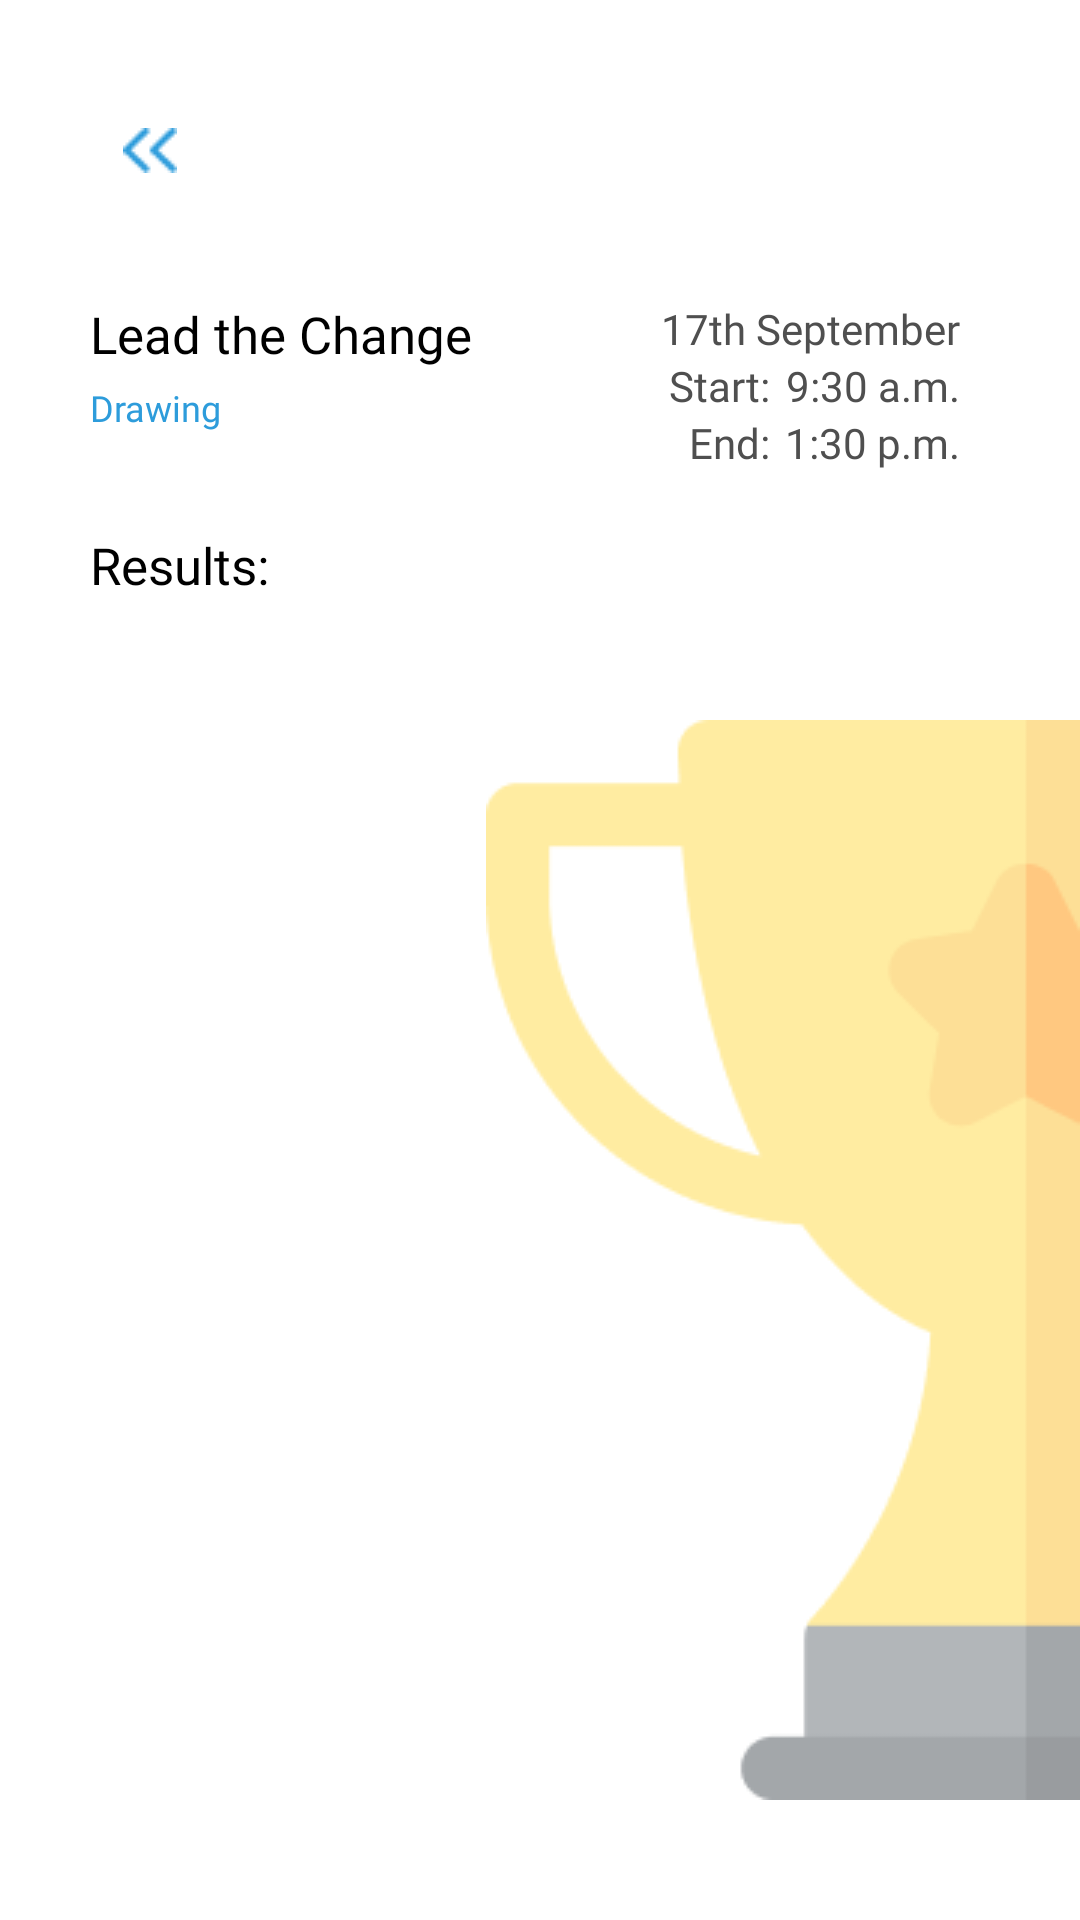

Icons on this 1080x1920 Android screen, each with its box as (x1, y1, x2, y2):
back: (123, 128, 177, 173)
